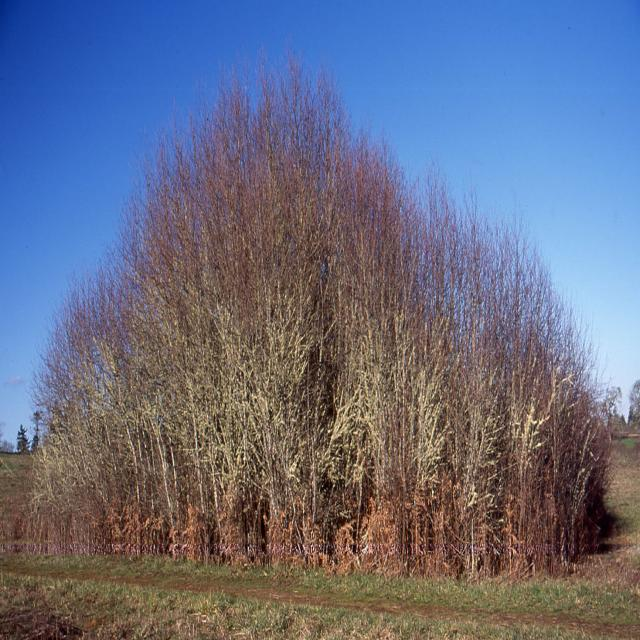Prunus emarginata: (28, 28, 616, 578)
